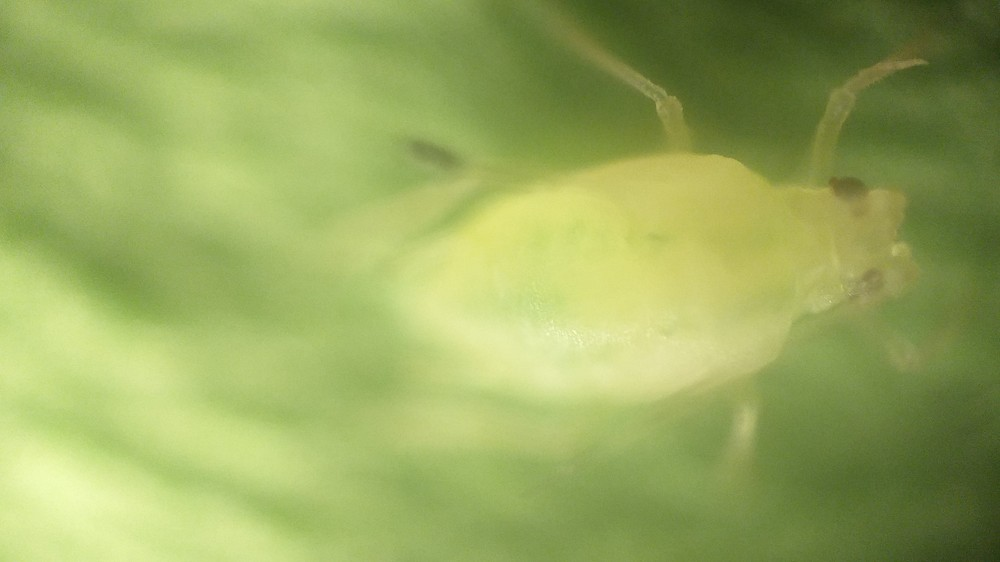Pulgon: (338, 20, 983, 522)
